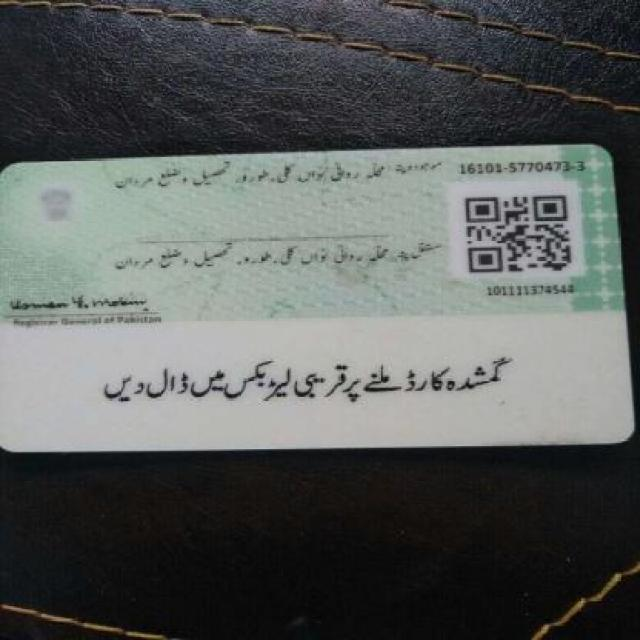Back: (8, 144, 632, 453)
